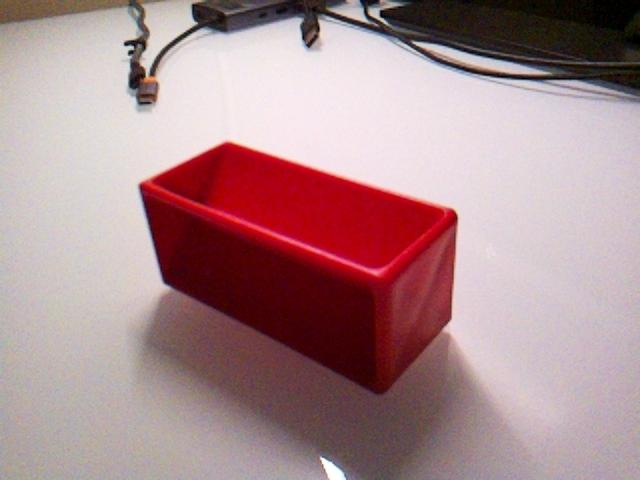red: (137, 138, 460, 395)
